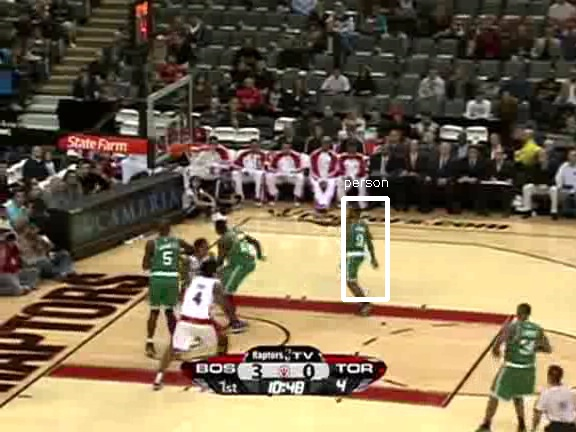person: (340, 209, 374, 290), (339, 209, 373, 290), (341, 209, 375, 290), (340, 208, 374, 289), (340, 210, 374, 291)
target_negative: (196, 1, 466, 263), (31, 156, 328, 284), (253, 57, 545, 94), (43, 327, 85, 372), (524, 353, 573, 369), (561, 388, 568, 422)
